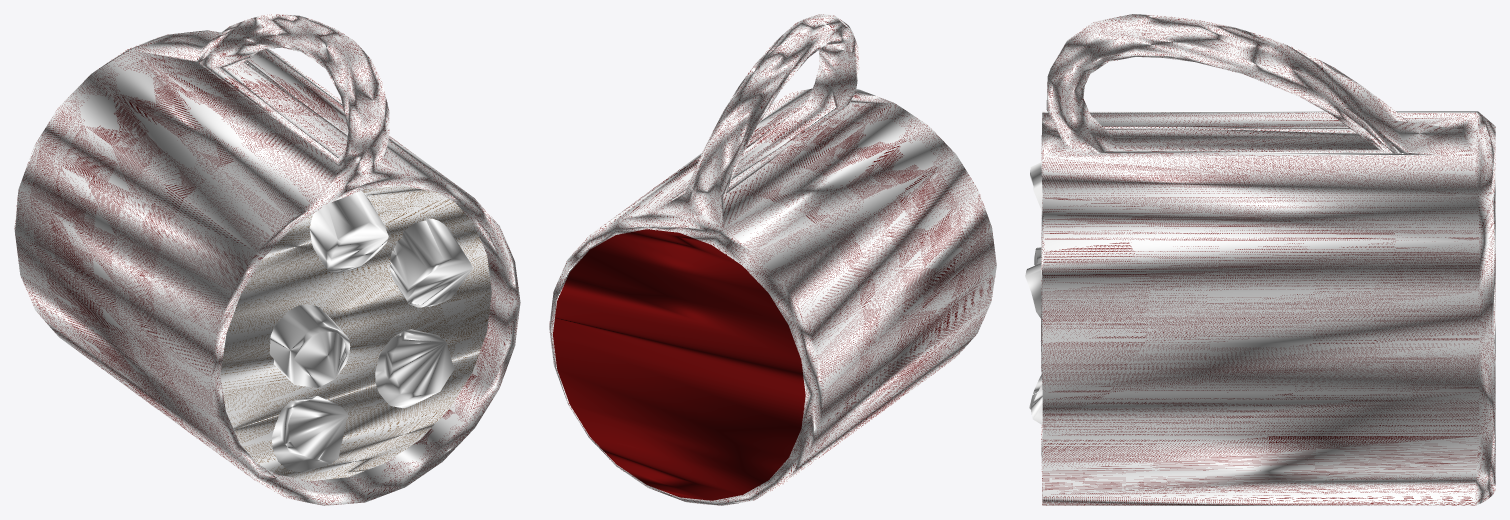
Rendered from model_align.obj.
3 views of the same model, side by side, from view 1: azimuth 30°, elevation 25°; view 2: azimuth 150°, elevation 25°; view 3: azimuth 270°, elevation 25° (orthographic). The views are drawn at different scales.
Size of the model in its own units: 0.092 by 0.1224 by 0.1094.
